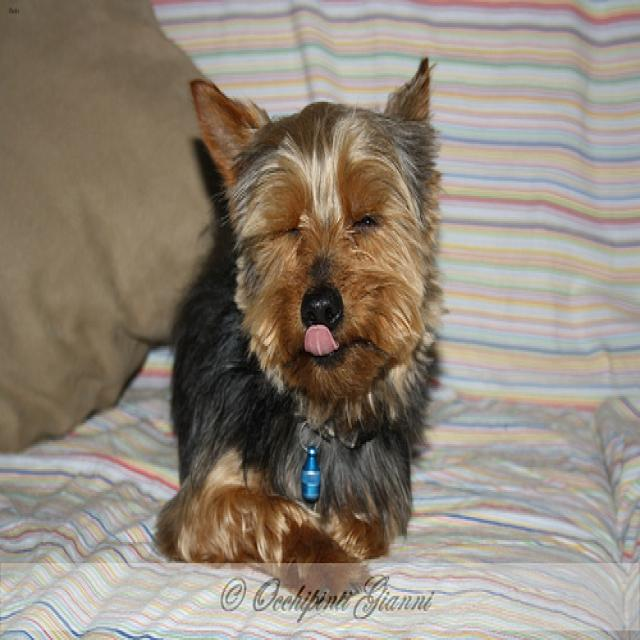dog-yorkshire_terrier: (145, 38, 457, 578)
